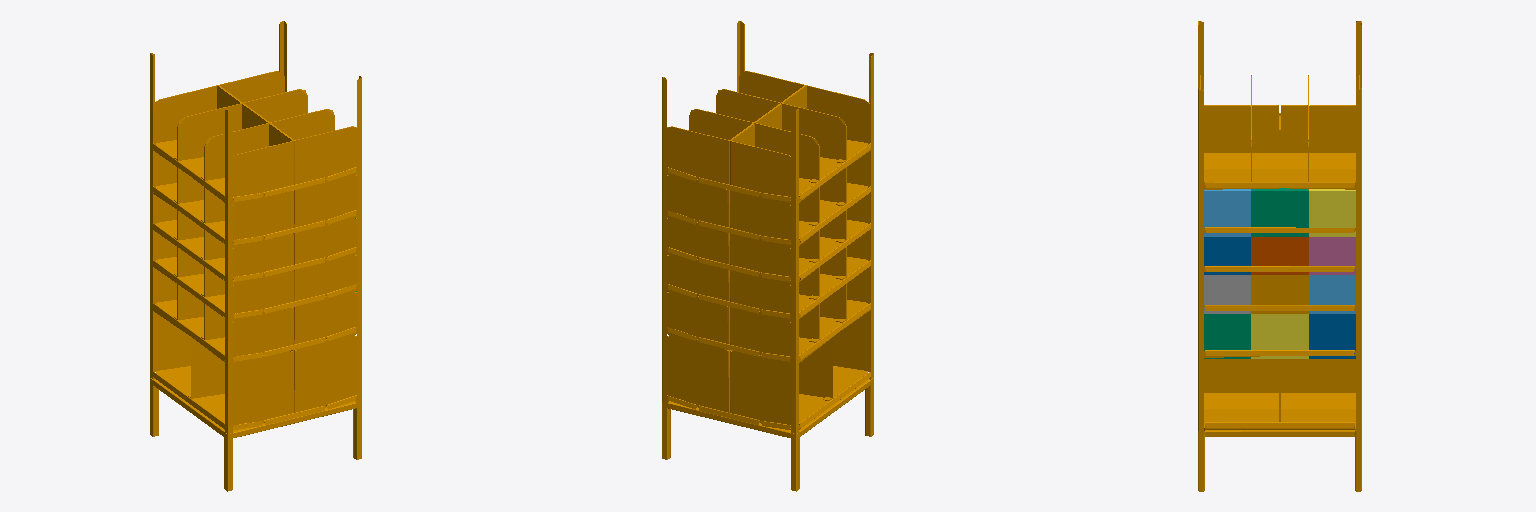
The robot description file, URDF, robot "kiva_pod":
<?xml version="1.0" ?>
<!-- =================================================================================== -->
<!-- |    This document was autogenerated by xacro from ./kiva_pod.urdf.xacro          | -->
<!-- |    EDITING THIS FILE BY HAND IS NOT RECOMMENDED                                 | -->
<!-- =================================================================================== -->
<robot name="kiva_pod" xmlns:xacro="http://www.ros.org/wiki/xacro">
  <!-- Include decriptions for LWA4D_TORSO -->
  <!-- Math constants -->
  <!-- KIVA pod properties. -->
  <!-- Assemble KIVA pod. -->
  <link name="kiva_pod_origin">
    <inertial>
      <origin rpy="0 0 0" xyz="0.0 0.0 0.0"/>
      <mass value="5.0"/>
      <inertia ixx="1" ixy="0.0" ixz="0.0" iyy="1" iyz="0.0" izz="1"/>
    </inertial>
    <visual>
      <origin rpy="0 0 0" xyz="0 0 0"/>
      <geometry>
        <mesh filename="package://apc_description/meshes/kiva_pod/kiva_pod.stl" scale="1 1 1"/>
      </geometry>
    </visual>
    <collision>
      <origin rpy="0 0 0" xyz="0 0 0"/>
      <geometry>
        <mesh filename="package://apc_description/meshes/kiva_pod/kiva_pod.stl" scale="1 1 1"/>
      </geometry>
    </collision>
  </link>
  <link name="bin_A">
    <inertial>
      <origin rpy="0 0 0" xyz="0.0 0.0 0.0"/>
      <mass value="5.0"/>
      <inertia ixx="1" ixy="0.0" ixz="0.0" iyy="1" iyz="0.0" izz="1"/>
    </inertial>
    <visual>
      <origin rpy="0 0 0" xyz="-0.217 0 0"/>
      <geometry>
        <box size="0.434 0.274 0.266"/>
      </geometry>
    </visual>
    <collision>
      <origin rpy="0 0 0" xyz="-0.217 0 0"/>
      <geometry>
        <box size="0.434 0.274 0.266"/>
      </geometry>
    </collision>
  </link>
  <joint name="bin_A_joint" type="fixed">
    <origin rpy="0 0 0" xyz="0.434                                      -0.2895                                      1.633"/>
    <parent link="kiva_pod_origin"/>
    <child link="bin_A"/>
  </joint>
  <link name="bin_B">
    <inertial>
      <origin rpy="0 0 0" xyz="0.0 0.0 0.0"/>
      <mass value="5.0"/>
      <inertia ixx="1" ixy="0.0" ixz="0.0" iyy="1" iyz="0.0" izz="1"/>
    </inertial>
    <visual>
      <origin rpy="0 0 0" xyz="-0.217 0 0"/>
      <geometry>
        <box size="0.434 0.305 0.266"/>
      </geometry>
    </visual>
    <collision>
      <origin rpy="0 0 0" xyz="-0.217 0 0"/>
      <geometry>
        <box size="0.434 0.305 0.266"/>
      </geometry>
    </collision>
  </link>
  <joint name="bin_B_joint" type="fixed">
    <origin rpy="0 0 0" xyz="0.434                                      0.0                                      1.633"/>
    <parent link="kiva_pod_origin"/>
    <child link="bin_B"/>
  </joint>
  <link name="bin_C">
    <inertial>
      <origin rpy="0 0 0" xyz="0.0 0.0 0.0"/>
      <mass value="5.0"/>
      <inertia ixx="1" ixy="0.0" ixz="0.0" iyy="1" iyz="0.0" izz="1"/>
    </inertial>
    <visual>
      <origin rpy="0 0 0" xyz="-0.217 0 0"/>
      <geometry>
        <box size="0.434 0.274 0.266"/>
      </geometry>
    </visual>
    <collision>
      <origin rpy="0 0 0" xyz="-0.217 0 0"/>
      <geometry>
        <box size="0.434 0.274 0.266"/>
      </geometry>
    </collision>
  </link>
  <joint name="bin_C_joint" type="fixed">
    <origin rpy="0 0 0" xyz="0.434                                      0.2895                                      1.633"/>
    <parent link="kiva_pod_origin"/>
    <child link="bin_C"/>
  </joint>
  <link name="bin_D">
    <inertial>
      <origin rpy="0 0 0" xyz="0.0 0.0 0.0"/>
      <mass value="5.0"/>
      <inertia ixx="1" ixy="0.0" ixz="0.0" iyy="1" iyz="0.0" izz="1"/>
    </inertial>
    <visual>
      <origin rpy="0 0 0" xyz="-0.217 0 0"/>
      <geometry>
        <box size="0.434 0.274 0.227"/>
      </geometry>
    </visual>
    <collision>
      <origin rpy="0 0 0" xyz="-0.217 0 0"/>
      <geometry>
        <box size="0.434 0.274 0.227"/>
      </geometry>
    </collision>
  </link>
  <joint name="bin_D_joint" type="fixed">
    <origin rpy="0 0 0" xyz="0.434                                      -0.2895                                      1.3865"/>
    <parent link="kiva_pod_origin"/>
    <child link="bin_D"/>
  </joint>
  <link name="bin_E">
    <inertial>
      <origin rpy="0 0 0" xyz="0.0 0.0 0.0"/>
      <mass value="5.0"/>
      <inertia ixx="1" ixy="0.0" ixz="0.0" iyy="1" iyz="0.0" izz="1"/>
    </inertial>
    <visual>
      <origin rpy="0 0 0" xyz="-0.217 0 0"/>
      <geometry>
        <box size="0.434 0.305 0.227"/>
      </geometry>
    </visual>
    <collision>
      <origin rpy="0 0 0" xyz="-0.217 0 0"/>
      <geometry>
        <box size="0.434 0.305 0.227"/>
      </geometry>
    </collision>
  </link>
  <joint name="bin_E_joint" type="fixed">
    <origin rpy="0 0 0" xyz="0.434                                      0.0                                      1.3865"/>
    <parent link="kiva_pod_origin"/>
    <child link="bin_E"/>
  </joint>
  <link name="bin_F">
    <inertial>
      <origin rpy="0 0 0" xyz="0.0 0.0 0.0"/>
      <mass value="5.0"/>
      <inertia ixx="1" ixy="0.0" ixz="0.0" iyy="1" iyz="0.0" izz="1"/>
    </inertial>
    <visual>
      <origin rpy="0 0 0" xyz="-0.217 0 0"/>
      <geometry>
        <box size="0.434 0.274 0.227"/>
      </geometry>
    </visual>
    <collision>
      <origin rpy="0 0 0" xyz="-0.217 0 0"/>
      <geometry>
        <box size="0.434 0.274 0.227"/>
      </geometry>
    </collision>
  </link>
  <joint name="bin_F_joint" type="fixed">
    <origin rpy="0 0 0" xyz="0.434                                      0.2895                                      1.3865"/>
    <parent link="kiva_pod_origin"/>
    <child link="bin_F"/>
  </joint>
  <link name="bin_G">
    <inertial>
      <origin rpy="0 0 0" xyz="0.0 0.0 0.0"/>
      <mass value="5.0"/>
      <inertia ixx="1" ixy="0.0" ixz="0.0" iyy="1" iyz="0.0" izz="1"/>
    </inertial>
    <visual>
      <origin rpy="0 0 0" xyz="-0.217 0 0"/>
      <geometry>
        <box size="0.434 0.274 0.227"/>
      </geometry>
    </visual>
    <collision>
      <origin rpy="0 0 0" xyz="-0.217 0 0"/>
      <geometry>
        <box size="0.434 0.274 0.227"/>
      </geometry>
    </collision>
  </link>
  <joint name="bin_G_joint" type="fixed">
    <origin rpy="0 0 0" xyz="0.434                                      -0.2895                                      1.1595"/>
    <parent link="kiva_pod_origin"/>
    <child link="bin_G"/>
  </joint>
  <link name="bin_H">
    <inertial>
      <origin rpy="0 0 0" xyz="0.0 0.0 0.0"/>
      <mass value="5.0"/>
      <inertia ixx="1" ixy="0.0" ixz="0.0" iyy="1" iyz="0.0" izz="1"/>
    </inertial>
    <visual>
      <origin rpy="0 0 0" xyz="-0.217 0 0"/>
      <geometry>
        <box size="0.434 0.305 0.227"/>
      </geometry>
    </visual>
    <collision>
      <origin rpy="0 0 0" xyz="-0.217 0 0"/>
      <geometry>
        <box size="0.434 0.305 0.227"/>
      </geometry>
    </collision>
  </link>
  <joint name="bin_H_joint" type="fixed">
    <origin rpy="0 0 0" xyz="0.434                                      0.0                                      1.1595"/>
    <parent link="kiva_pod_origin"/>
    <child link="bin_H"/>
  </joint>
  <link name="bin_I">
    <inertial>
      <origin rpy="0 0 0" xyz="0.0 0.0 0.0"/>
      <mass value="5.0"/>
      <inertia ixx="1" ixy="0.0" ixz="0.0" iyy="1" iyz="0.0" izz="1"/>
    </inertial>
    <visual>
      <origin rpy="0 0 0" xyz="-0.217 0 0"/>
      <geometry>
        <box size="0.434 0.274 0.227"/>
      </geometry>
    </visual>
    <collision>
      <origin rpy="0 0 0" xyz="-0.217 0 0"/>
      <geometry>
        <box size="0.434 0.274 0.227"/>
      </geometry>
    </collision>
  </link>
  <joint name="bin_I_joint" type="fixed">
    <origin rpy="0 0 0" xyz="0.434                                      0.2895                                      1.1595"/>
    <parent link="kiva_pod_origin"/>
    <child link="bin_I"/>
  </joint>
  <link name="bin_J">
    <inertial>
      <origin rpy="0 0 0" xyz="0.0 0.0 0.0"/>
      <mass value="5.0"/>
      <inertia ixx="1" ixy="0.0" ixz="0.0" iyy="1" iyz="0.0" izz="1"/>
    </inertial>
    <visual>
      <origin rpy="0 0 0" xyz="-0.217 0 0"/>
      <geometry>
        <box size="0.434 0.274 0.266"/>
      </geometry>
    </visual>
    <collision>
      <origin rpy="0 0 0" xyz="-0.217 0 0"/>
      <geometry>
        <box size="0.434 0.274 0.266"/>
      </geometry>
    </collision>
  </link>
  <joint name="bin_J_joint" type="fixed">
    <origin rpy="0 0 0" xyz="0.434                                      -0.2895                                      0.913"/>
    <parent link="kiva_pod_origin"/>
    <child link="bin_J"/>
  </joint>
  <link name="bin_K">
    <inertial>
      <origin rpy="0 0 0" xyz="0.0 0.0 0.0"/>
      <mass value="5.0"/>
      <inertia ixx="1" ixy="0.0" ixz="0.0" iyy="1" iyz="0.0" izz="1"/>
    </inertial>
    <visual>
      <origin rpy="0 0 0" xyz="-0.217 0 0"/>
      <geometry>
        <box size="0.434 0.305 0.266"/>
      </geometry>
    </visual>
    <collision>
      <origin rpy="0 0 0" xyz="-0.217 0 0"/>
      <geometry>
        <box size="0.434 0.305 0.266"/>
      </geometry>
    </collision>
  </link>
  <joint name="bin_K_joint" type="fixed">
    <origin rpy="0 0 0" xyz="0.434                                      0.0                                      0.913"/>
    <parent link="kiva_pod_origin"/>
    <child link="bin_K"/>
  </joint>
  <link name="bin_L">
    <inertial>
      <origin rpy="0 0 0" xyz="0.0 0.0 0.0"/>
      <mass value="5.0"/>
      <inertia ixx="1" ixy="0.0" ixz="0.0" iyy="1" iyz="0.0" izz="1"/>
    </inertial>
    <visual>
      <origin rpy="0 0 0" xyz="-0.217 0 0"/>
      <geometry>
        <box size="0.434 0.274 0.266"/>
      </geometry>
    </visual>
    <collision>
      <origin rpy="0 0 0" xyz="-0.217 0 0"/>
      <geometry>
        <box size="0.434 0.274 0.266"/>
      </geometry>
    </collision>
  </link>
  <joint name="bin_L_joint" type="fixed">
    <origin rpy="0 0 0" xyz="0.434                                      0.2895                                      0.913"/>
    <parent link="kiva_pod_origin"/>
    <child link="bin_L"/>
  </joint>
</robot>

--- Render facts (derived) ---
Views: 3 orthographic renders of the robot side by side, from view 1: azimuth 30°, elevation 25°; view 2: azimuth 150°, elevation 25°; view 3: azimuth 270°, elevation 25°.
Model kiva_pod with 13 links and 12 joints (12 fixed), rooted at kiva_pod_origin, posed every joint at zero.
Links seen in each view (by area): view 1: kiva_pod_origin; view 2: kiva_pod_origin; view 3: kiva_pod_origin, bin_B, bin_K, bin_C, bin_A, bin_H, bin_E, bin_L, bin_J, bin_G, bin_I, bin_F (+1 smaller).
Link boxes in pixels (x1,y1,x2,y2): kiva_pod_origin: [150, 21, 361, 491]; kiva_pod_origin: [662, 21, 873, 491]; kiva_pod_origin: [1198, 21, 1361, 491]; bin_B: [1251, 188, 1308, 236]; bin_K: [1251, 314, 1308, 358]; bin_C: [1309, 189, 1355, 236]; bin_A: [1204, 189, 1250, 236]; bin_H: [1251, 275, 1308, 313]; bin_E: [1251, 237, 1308, 274]; bin_L: [1309, 314, 1355, 358]; bin_J: [1204, 314, 1250, 358]; bin_G: [1204, 275, 1250, 313]; bin_I: [1309, 275, 1355, 313]; bin_F: [1309, 237, 1355, 274].
Bounding box of the posed robot: 0.8842 × 0.8795 × 2.37 m (x, y, z).
Meshes: 1 distinct files referenced, 1 mesh visuals loaded (1 binary STL).